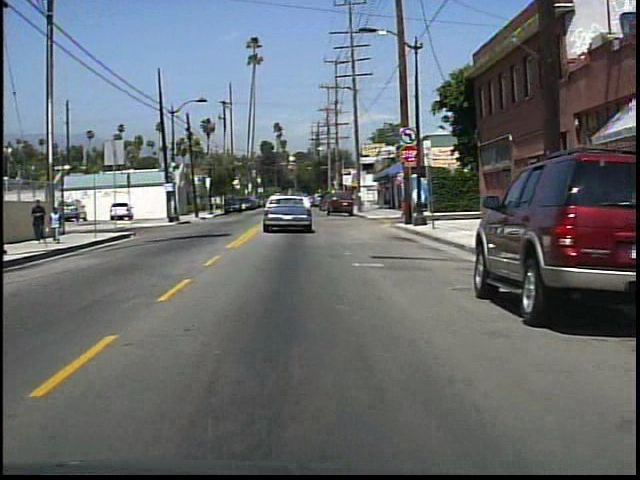person: (33, 198, 52, 244), (48, 204, 68, 245)
